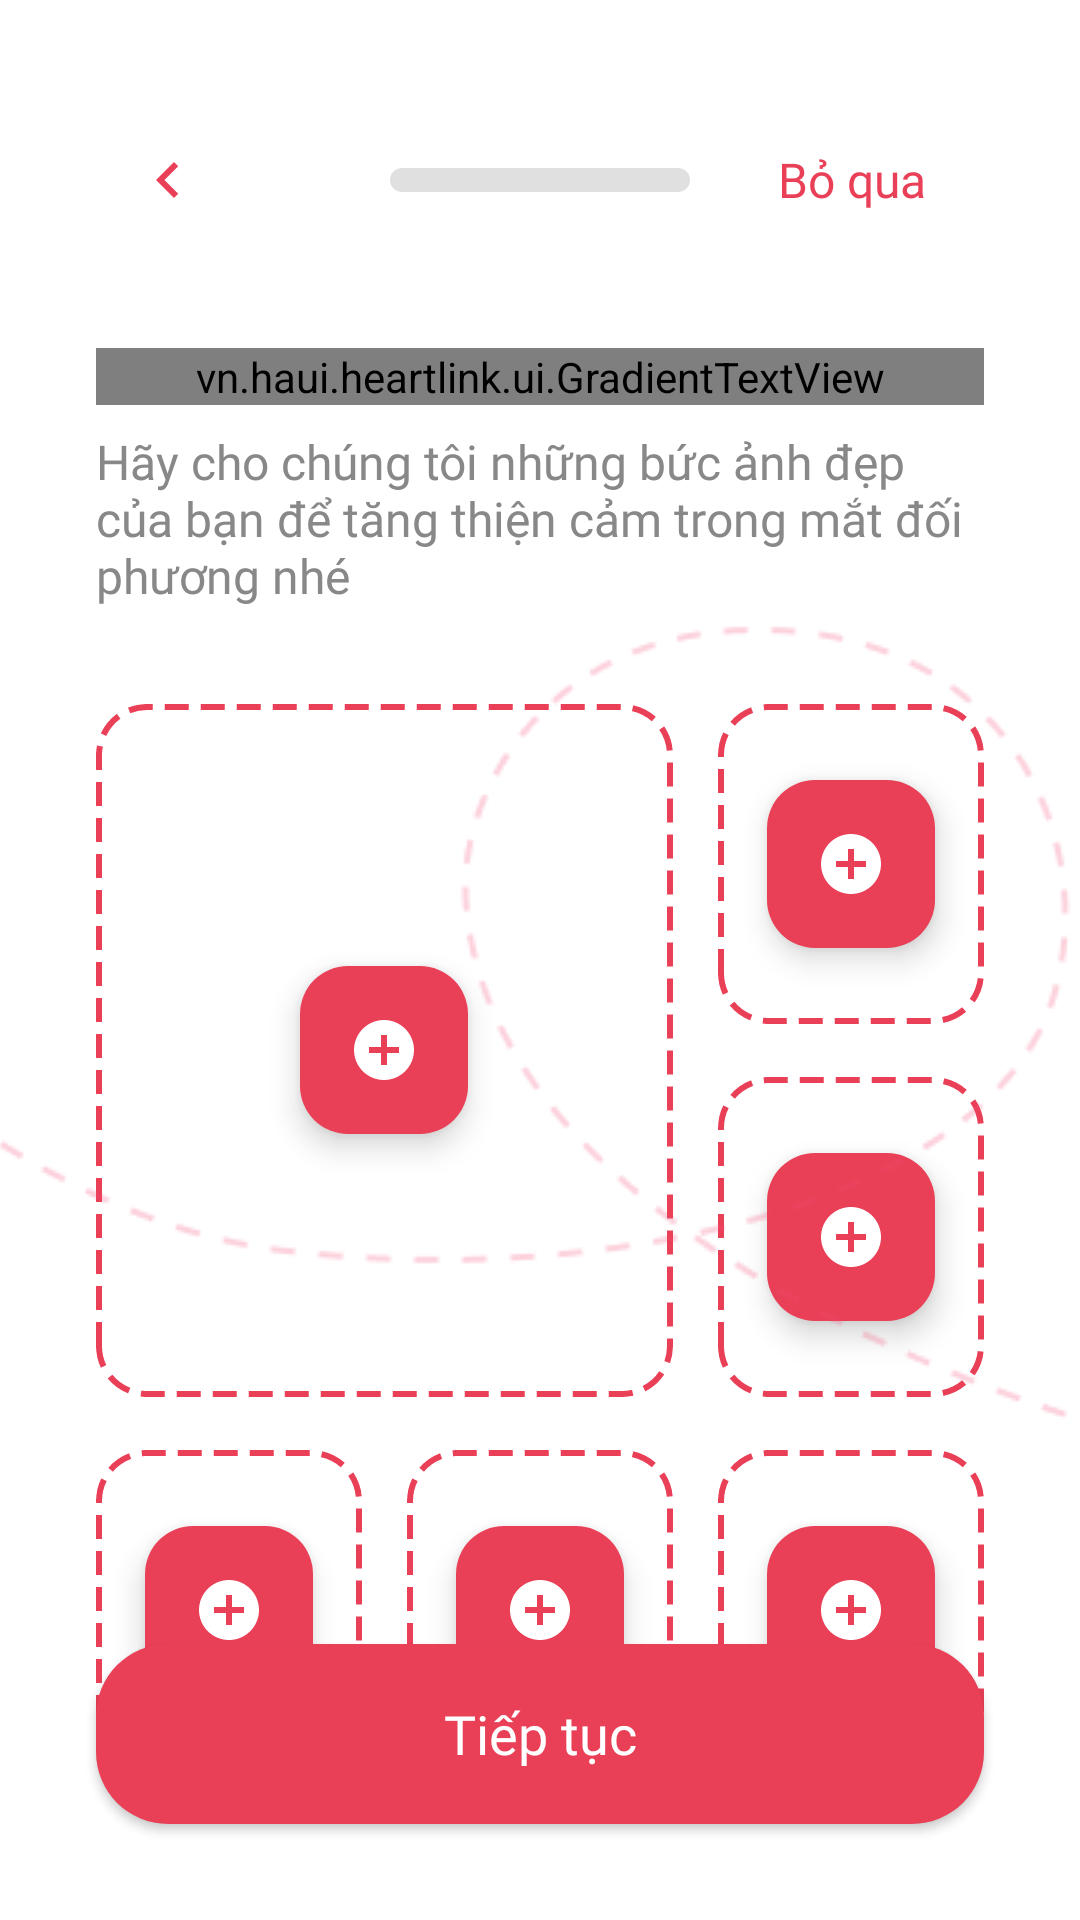

Icon bounding boxes for this 1080*1920 phone screenshot, format (x1, y1, x2, y2):
back arrow: (156, 162, 178, 198)
